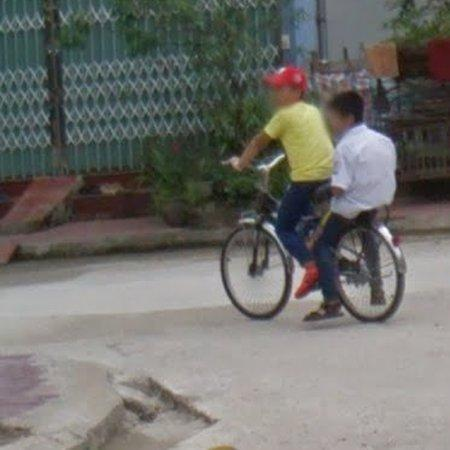bicycles: (221, 152, 294, 320), (337, 224, 406, 321), (302, 197, 327, 243)
